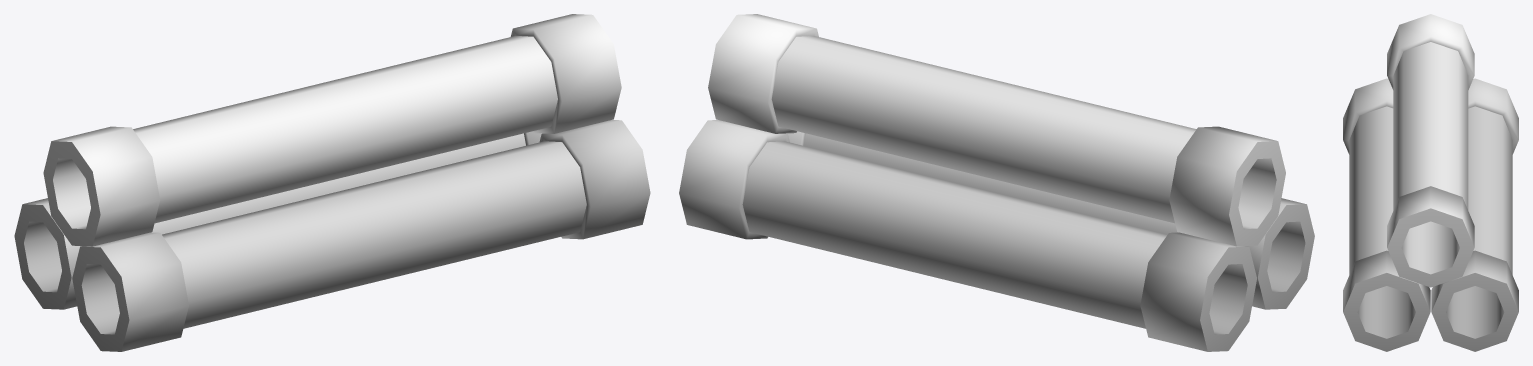
The model's file is BetonBermain.fbx.
3 renders of one model, left to right at view 1: azimuth 30°, elevation 25°; view 2: azimuth 150°, elevation 25°; view 3: azimuth 270°, elevation 25°, orthographic. The views are drawn at different scales.
Parts seen in each view (by area): view 1: BetonTaman Bermain_LOD0; view 2: BetonTaman Bermain_LOD0; view 3: BetonTaman Bermain_LOD0.
Part boxes in pixels (box(x1,y1,x2,y2)): BetonTaman Bermain_LOD0: box(14, 14, 650, 351); BetonTaman Bermain_LOD0: box(679, 14, 1314, 351); BetonTaman Bermain_LOD0: box(1343, 14, 1518, 351).
Size of what is drawn, in the model's own units: 1124 by 387 by 430.
